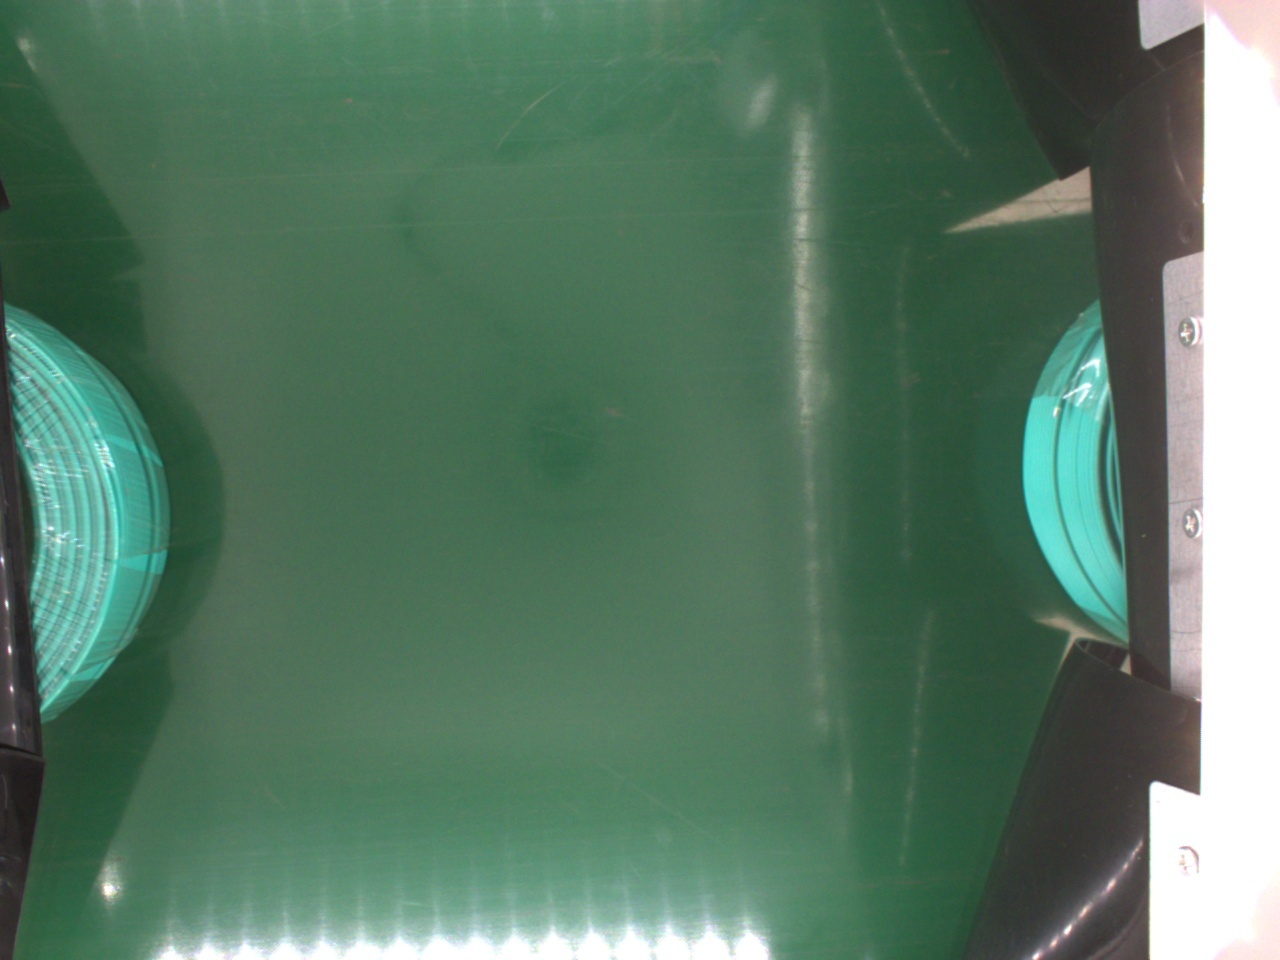green: (3, 301, 167, 712), (1029, 303, 1136, 651)
